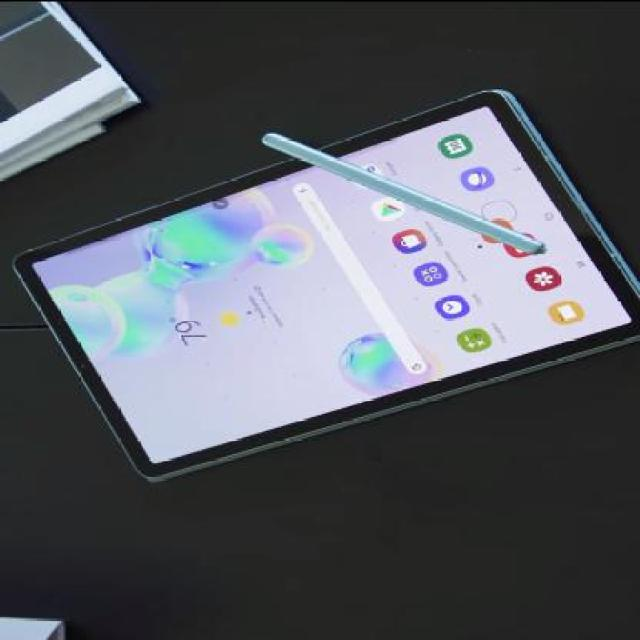tablet: (22, 79, 636, 535)
